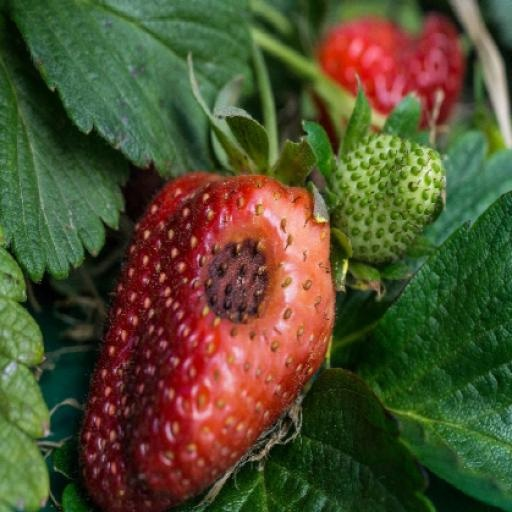Anthracnose Fruit Rot: (229, 236, 319, 332)
